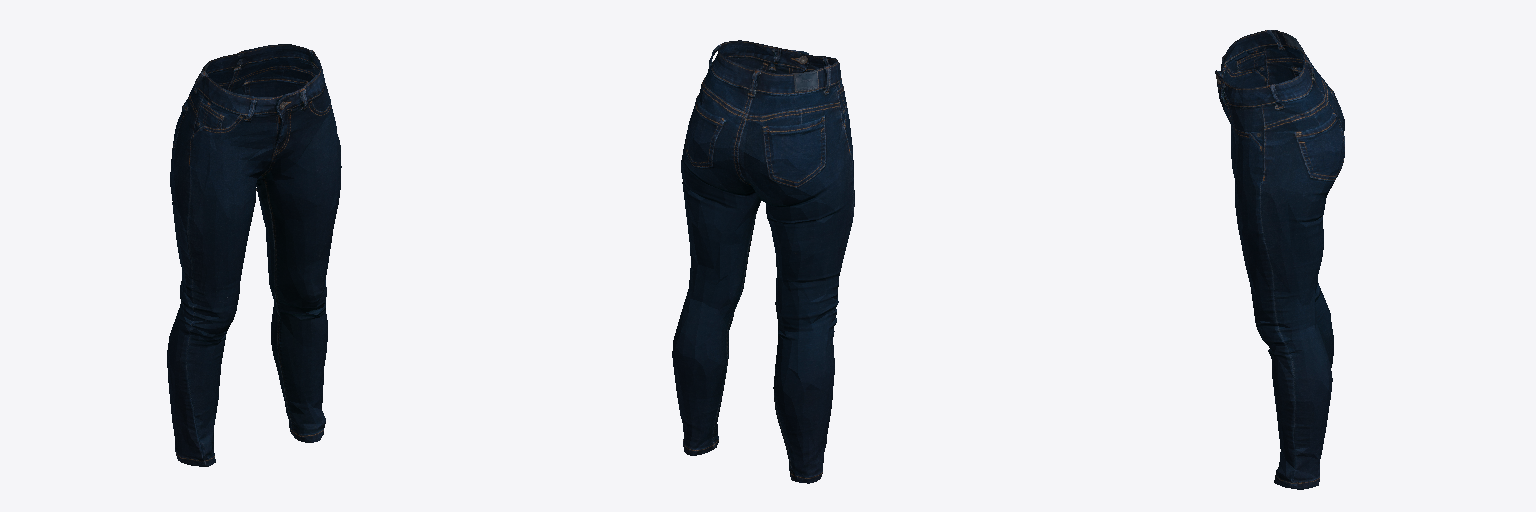
3 renders of one model, left to right at view 1: azimuth 30°, elevation 25°; view 2: azimuth 150°, elevation 25°; view 3: azimuth 270°, elevation 25°, orthographic.
Parts seen in each view (by area): view 1: dark_blue_jeans; view 2: dark_blue_jeans; view 3: dark_blue_jeans.
Part boxes in pixels (x1,y1,x2,y2): dark_blue_jeans: (167,44,341,466); dark_blue_jeans: (672,40,854,483); dark_blue_jeans: (1215,30,1344,489).
Bounding box in the file's own units: 0.3931 × 0.954 × 0.2822.
Materials: 1 (1 with a texture image).